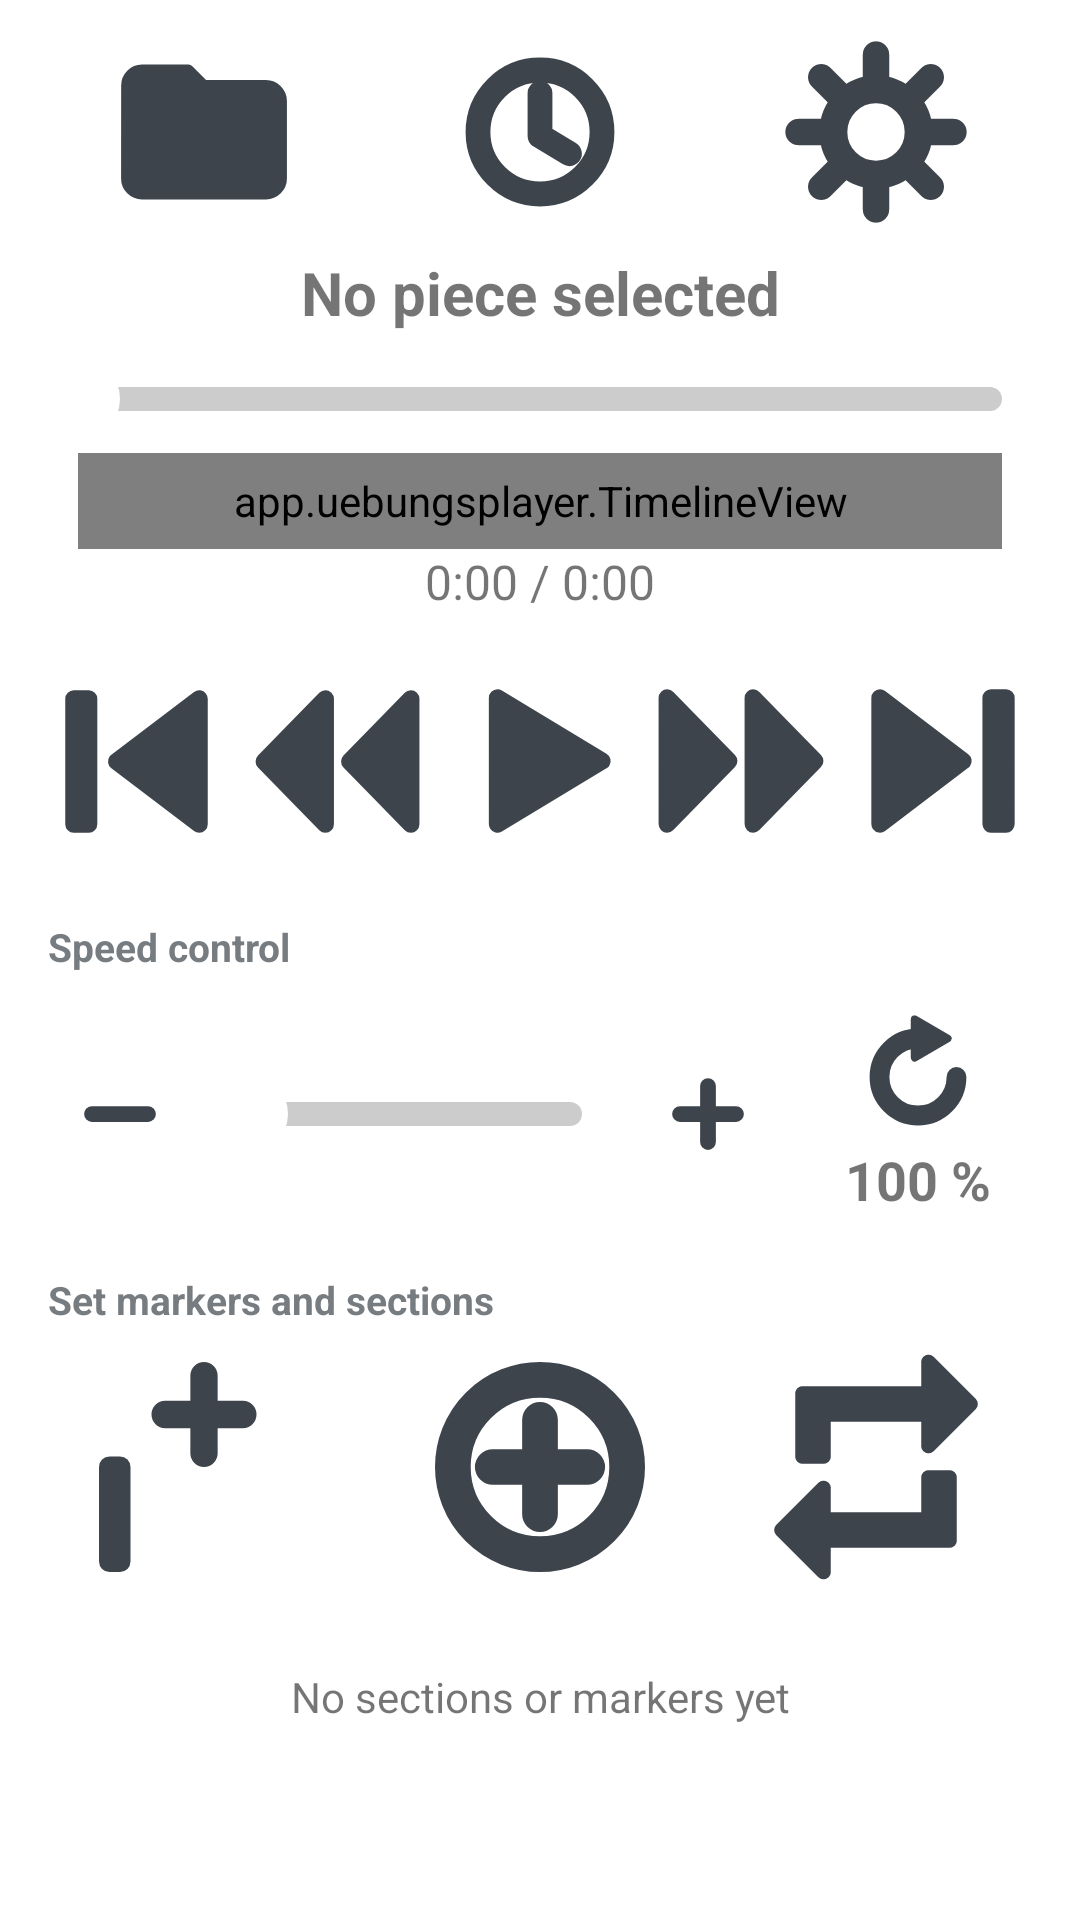

Where to tap for icons on this 1080w x 1920h app screen, as (x=x, y=y):
Back 5 seconds: (x=337, y=761)
Choose a piece: (x=204, y=132)
Faster: (x=708, y=1114)
Forward 5 seconds: (x=741, y=761)
History: (x=540, y=132)
Loop on/off: (x=876, y=1467)
reset: (x=918, y=1070)
Settings: (x=876, y=132)
Slower: (x=120, y=1114)
To the next marker or section start: (x=943, y=761)
To the previous marker or section start: (x=136, y=761)
